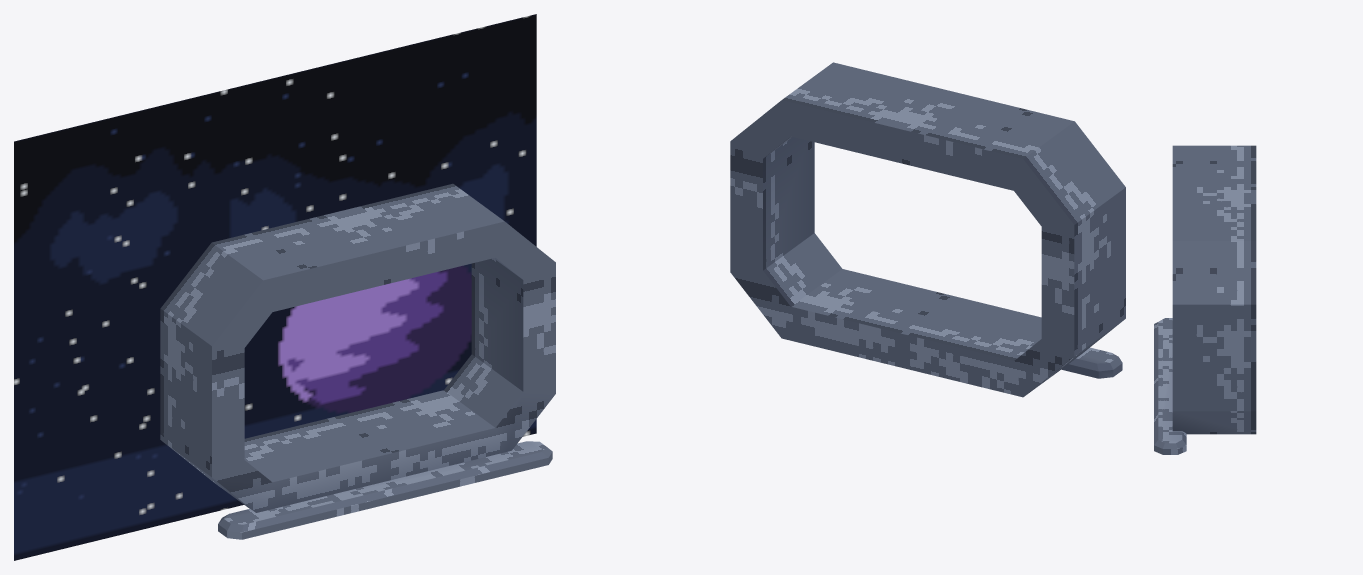
Rendered from stn.viewport.glb.
3 views of the same model, side by side, from view 1: azimuth 30°, elevation 25°; view 2: azimuth 150°, elevation 25°; view 3: azimuth 270°, elevation 25° (orthographic). The views are drawn at different scales.
Parts seen in each view (by area): view 1: kit_card_view, kit_frame, kit_ledge; view 2: kit_frame, kit_ledge; view 3: kit_frame, kit_ledge.
Boxes of the visible parts, x1,y1,x2,y2 form: kit_card_view: (14,14,536,560); kit_frame: (160,183,555,512); kit_ledge: (218,441,552,539); kit_frame: (730,62,1125,397); kit_ledge: (1061,347,1122,378); kit_frame: (1172,145,1256,434); kit_ledge: (1154,318,1186,454).
Bounding box in the file's own units: 4.5 × 3.45 × 1.79.
3 materials, 3 textured.
